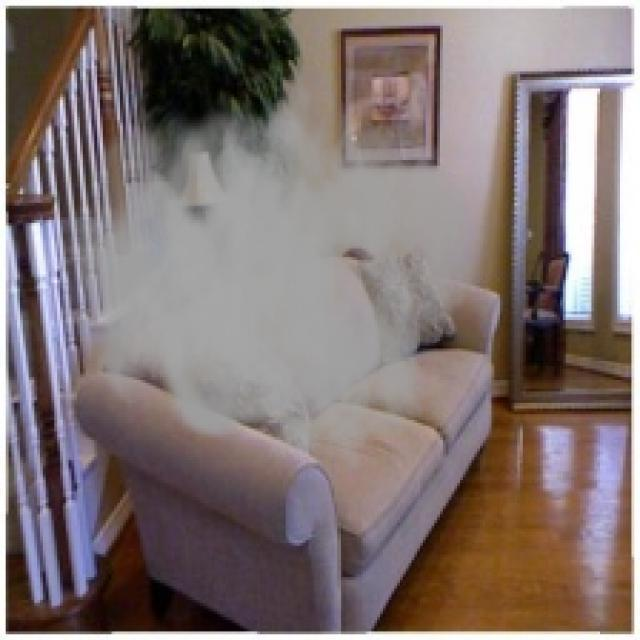Smoke: (68, 54, 474, 474)
